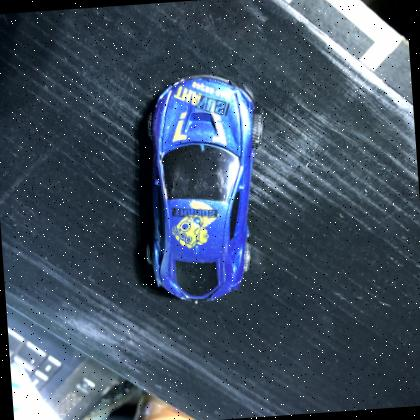Car: (128, 64, 284, 314)
